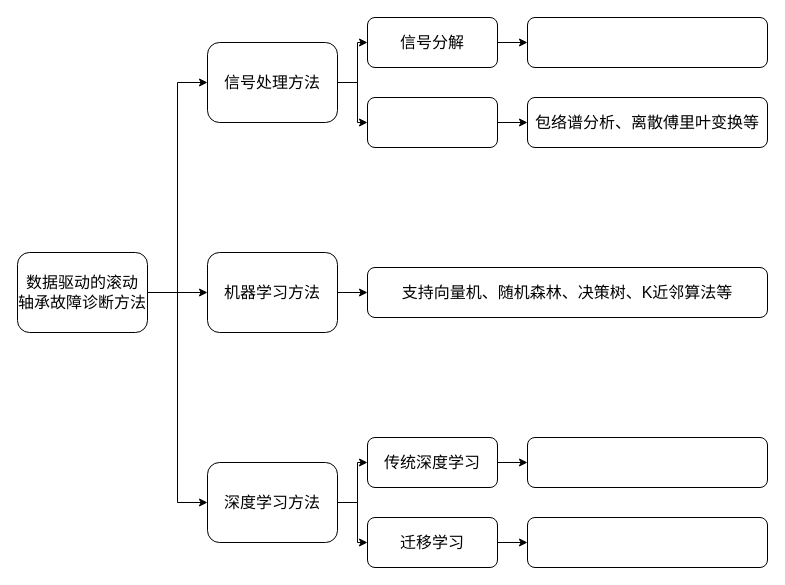
Image size: 785x585. Some labels were removed from this diagram. Here are the shapes that lost their labels. From the top down, the centre of each, then its label:
the point at 647,42: 小波变换、经验模态分解等
the point at 432,122: 频域分析
the point at 647,462: CNN、RNN、ResNet等
the point at 647,542: 领域自适应、领域泛化等
